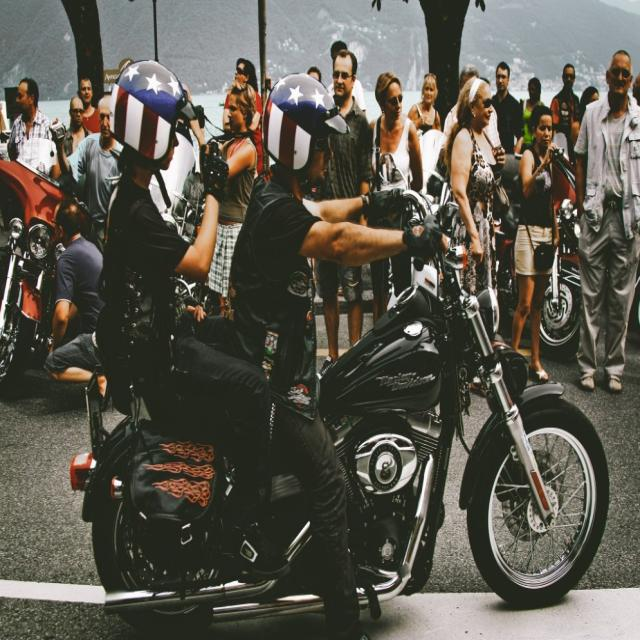helmet: (101, 56, 191, 202), (258, 68, 346, 200)
